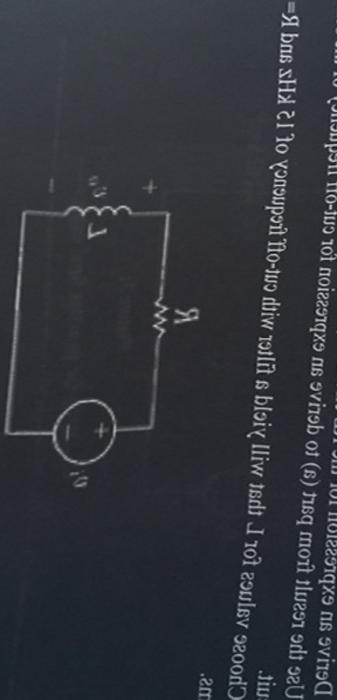Battery: (37, 386, 133, 471)
